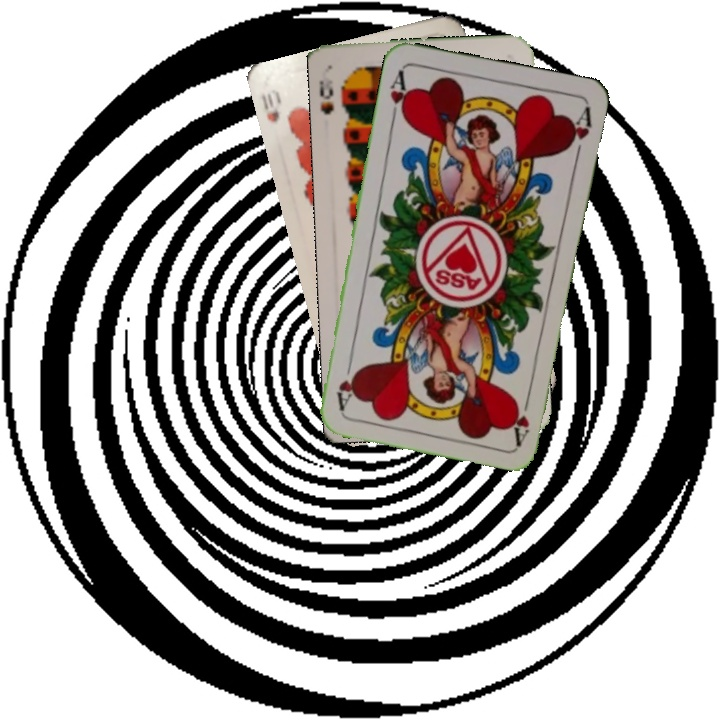H10: (257, 85, 284, 125)
HA: (386, 66, 413, 125), (508, 387, 534, 446)
S8: (315, 67, 337, 117)
